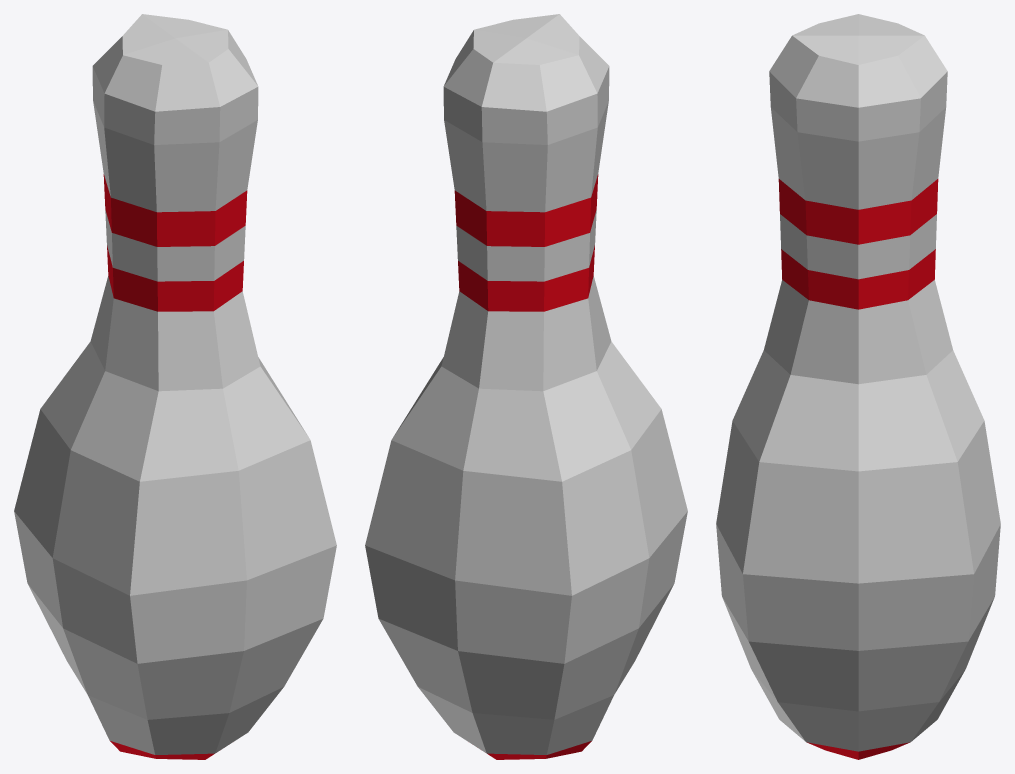
File: BowlingPin.fbx
The picture shows the model from 3 angles, left to right: view 1: azimuth 30°, elevation 25°; view 2: azimuth 150°, elevation 25°; view 3: azimuth 270°, elevation 25°; orthographic projection.
Parts seen in each view (by area): view 1: Cube; view 2: Cube; view 3: Cube.
Boxes of the visible parts, x1,y1,x2,y2 form: Cube: (14,14,336,759); Cube: (365,14,687,759); Cube: (716,14,1000,759).
Bounding box in the file's own units: 178 × 485 × 179.
